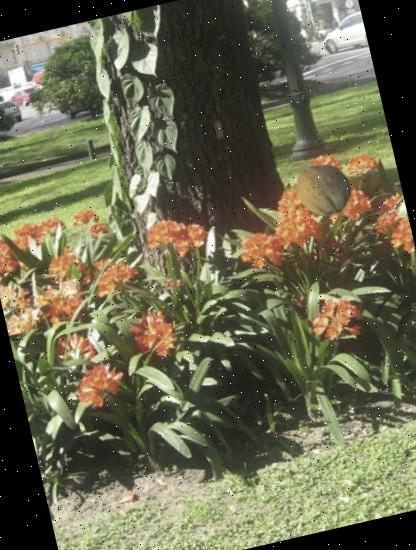Cantaloupe: (288, 154, 358, 224)
